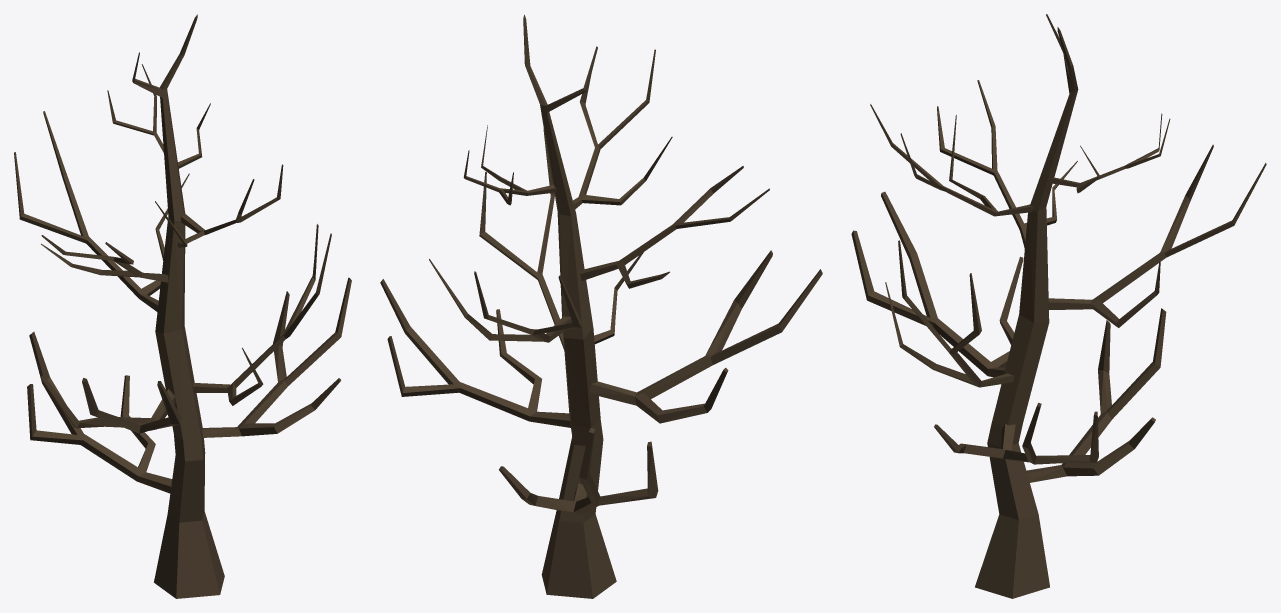
Rendered from SM_Env_TreeDead_02.gltf.
The picture shows the model from 3 angles, left to right: view 1: azimuth 30°, elevation 25°; view 2: azimuth 150°, elevation 25°; view 3: azimuth 270°, elevation 25°; orthographic projection. The views are drawn at different scales.
Parts seen in each view (by area): view 1: SM_Env_TreeDead_02; view 2: SM_Env_TreeDead_02; view 3: SM_Env_TreeDead_02.
Boxes of the visible parts, x1,y1,x2,y2 form: SM_Env_TreeDead_02: [14, 14, 351, 598]; SM_Env_TreeDead_02: [380, 14, 822, 598]; SM_Env_TreeDead_02: [851, 14, 1266, 598].
Bounding box in the file's own units: 4.32 × 6.57 × 4.34.
Materials: 1 (1 with a texture image).
